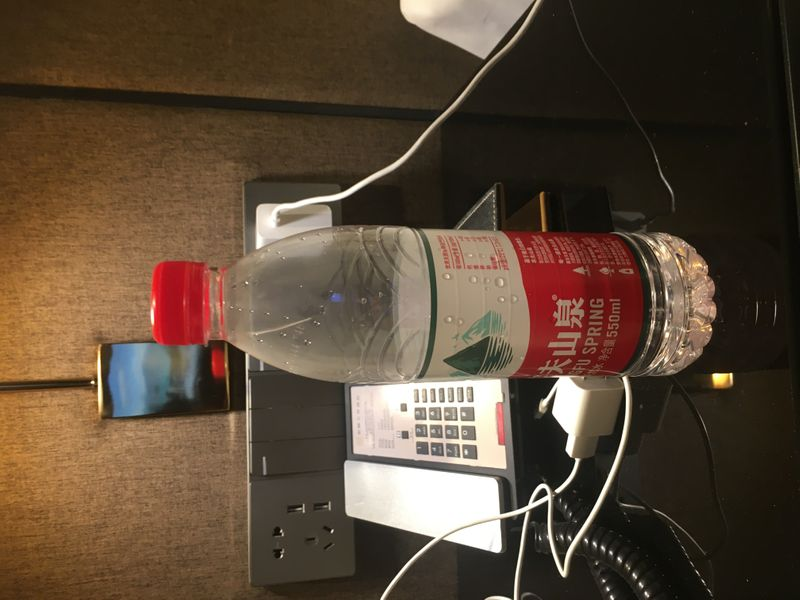5eca67a90202601e8cb8d104: (148, 221, 714, 387)
